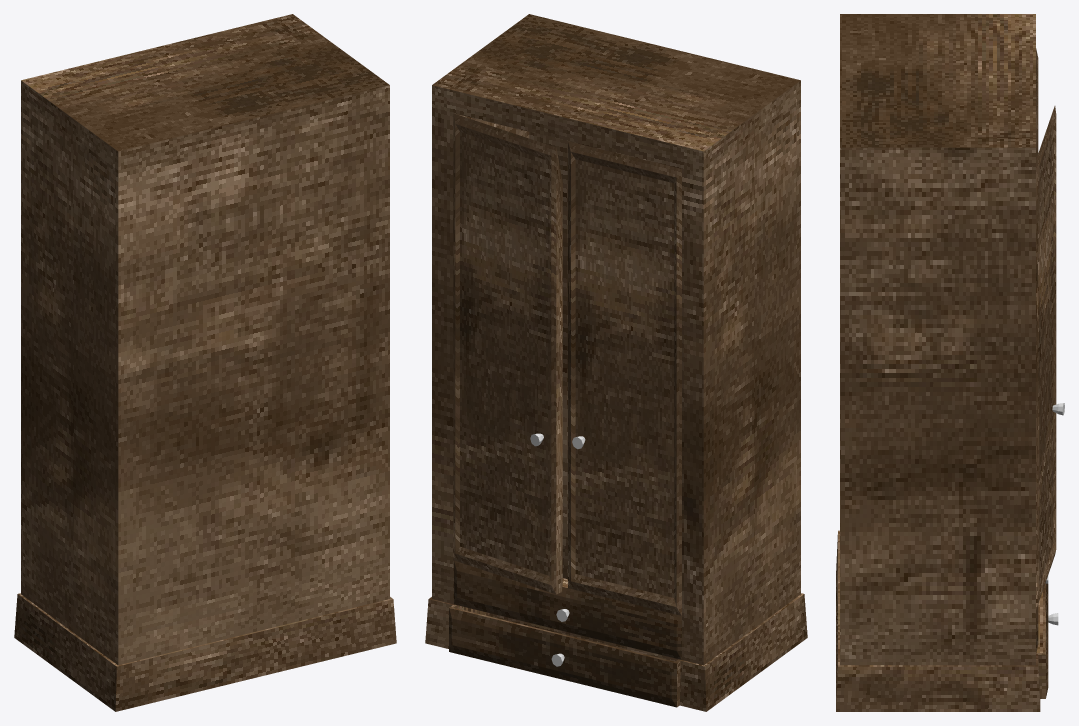
The model's file is Wardrobe.glb.
The picture shows the model from 3 angles, left to right: view 1: azimuth 30°, elevation 25°; view 2: azimuth 150°, elevation 25°; view 3: azimuth 270°, elevation 25°; orthographic projection.
Parts seen in each view (by area): view 1: Cabinet; view 2: Cabinet; view 3: Cabinet.
Part boxes in pixels (x1,y1,x2,y2): Cabinet: (14,14,396,711); Cabinet: (425,14,807,711); Cabinet: (836,14,1064,711).
Size of the model in its own units: 1 by 1.9 by 0.7.
Materials: 2 (1 with a texture image).
